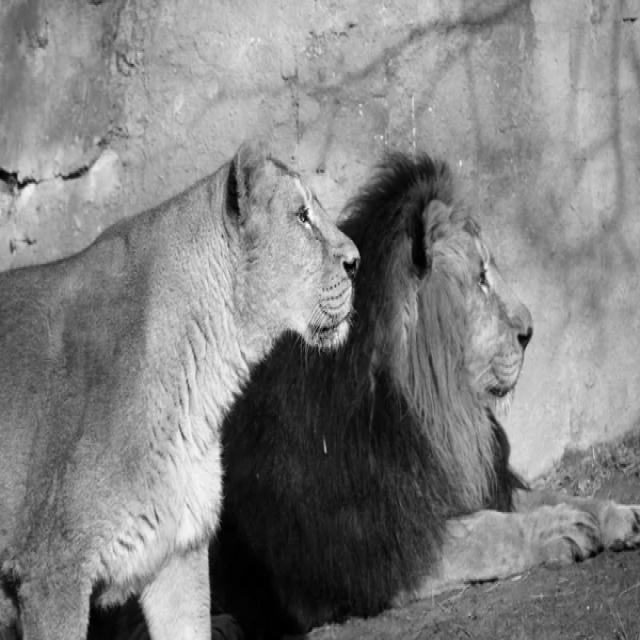Animal: (222, 153, 640, 630), (0, 139, 359, 640)
